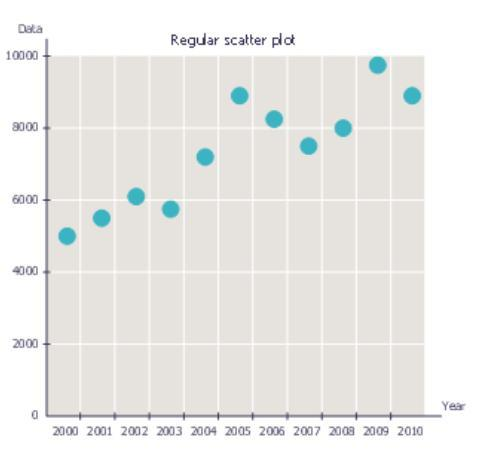axis: (39, 36, 55, 423), (43, 411, 443, 422)
point: (261, 106, 292, 133), (190, 145, 220, 170), (226, 83, 255, 108), (330, 115, 356, 142), (294, 132, 320, 157), (159, 197, 184, 222), (400, 83, 425, 108), (55, 223, 81, 247), (89, 206, 115, 230), (122, 184, 149, 207), (365, 54, 392, 76)
